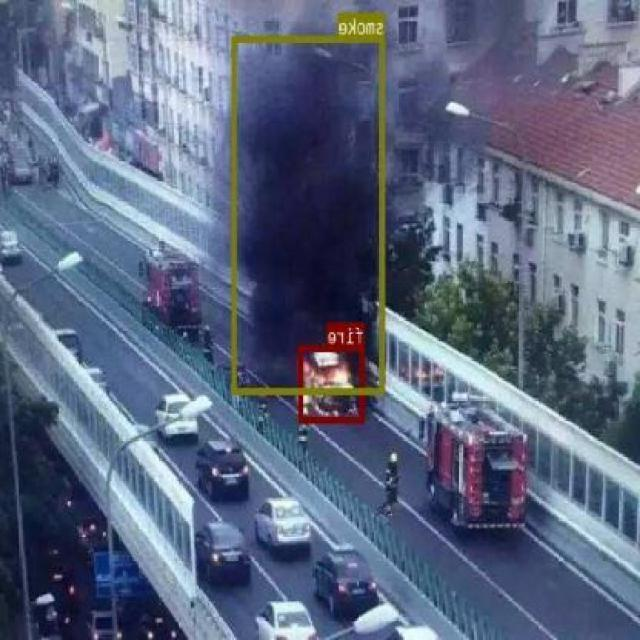Fire: (300, 346, 362, 424)
Smoke: (225, 0, 373, 410), (350, 2, 517, 188)
